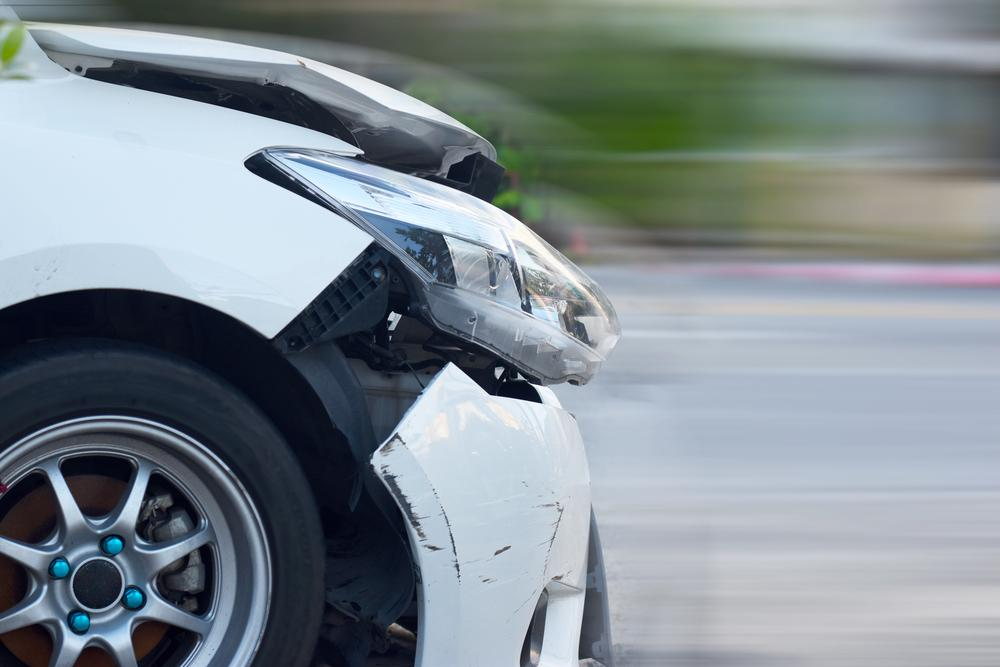scratch: (379, 429, 575, 600)
